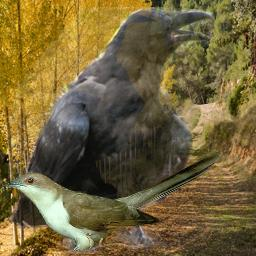Crow: (8, 7, 215, 254)
Cuckoo: (2, 151, 221, 251)
